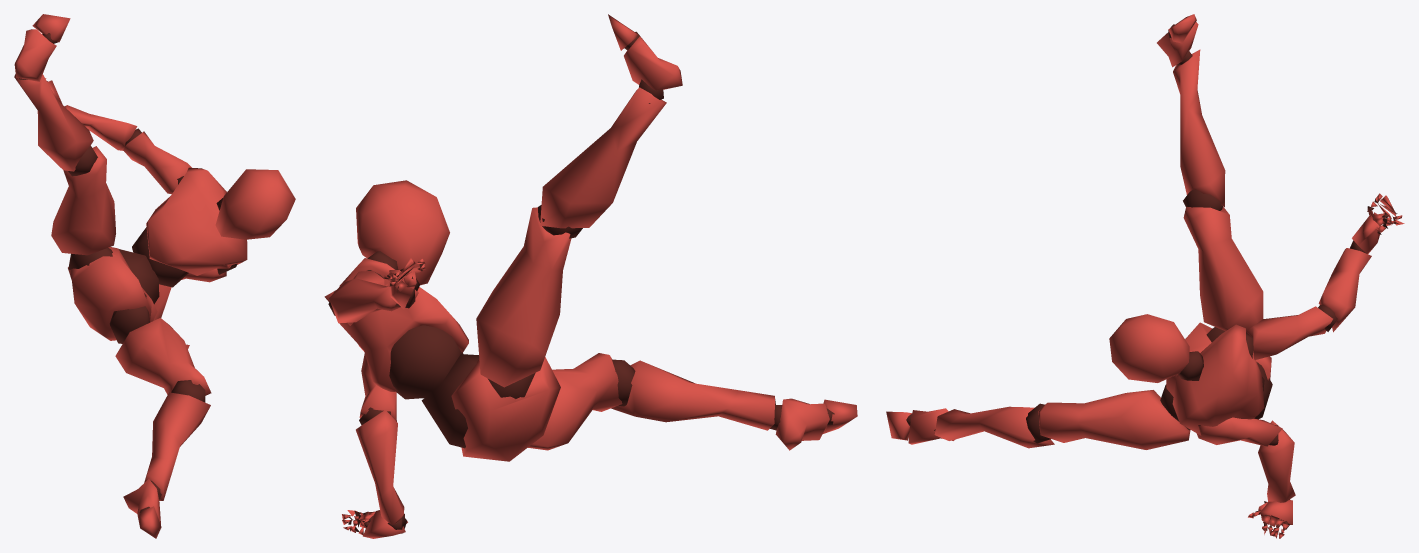
3 renders of one model, left to right at view 1: azimuth 30°, elevation 25°; view 2: azimuth 150°, elevation 25°; view 3: azimuth 270°, elevation 25°, orthographic. The views are drawn at different scales.
Visible parts, largest first — view 1: Beta_Surface; view 2: Beta_Surface; view 3: Beta_Surface.
Boxes of the visible parts, left/top/right/bottom form: Beta_Surface: left=14, top=14, right=295, bottom=538; Beta_Surface: left=324, top=14, right=857, bottom=538; Beta_Surface: left=886, top=14, right=1404, bottom=538.
Bounding box in the file's own units: 10.12 × 15.04 × 15.96.
